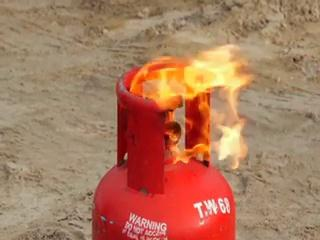Fire: (126, 17, 274, 173)
